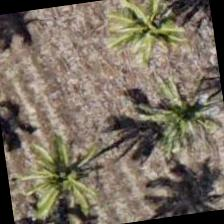Kelapa_Sawit: (12, 126, 115, 223)
